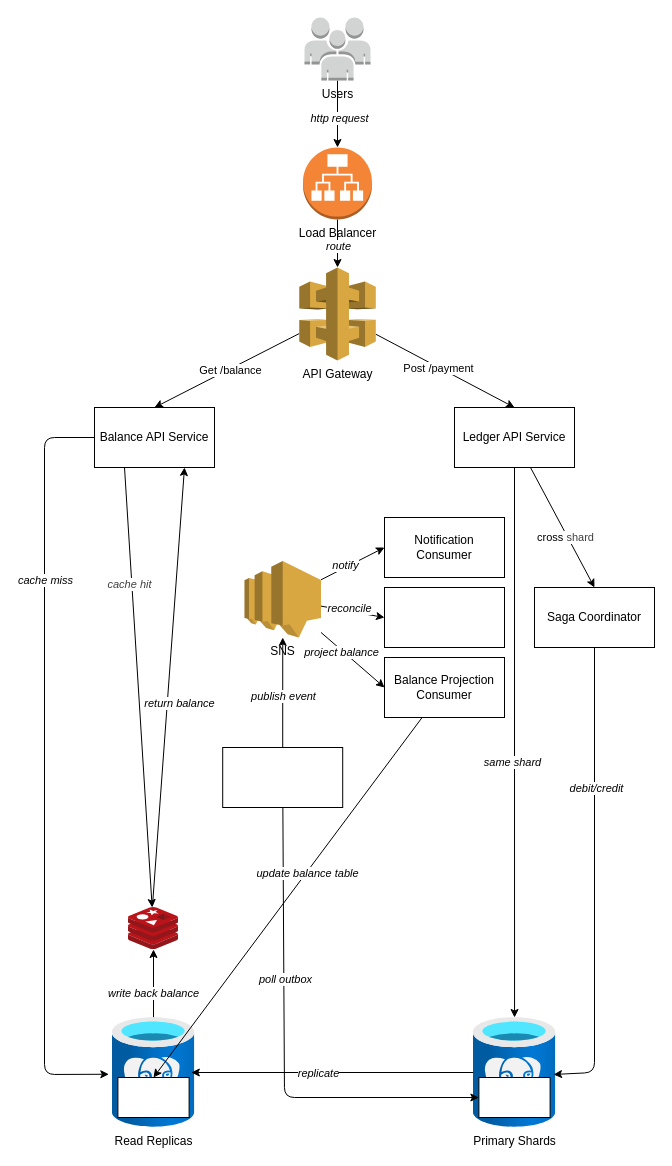
This 672x1166 diagram has some shape labels left out. Each missing label, with the centre of its shape:
Outbox Publisher: [282,777]
Outbox Table: [514,1097]
Pre Computed Bal: [153,1097]
Reconciliation Consumer: [444,617]
Redis Cache: [153,928]
